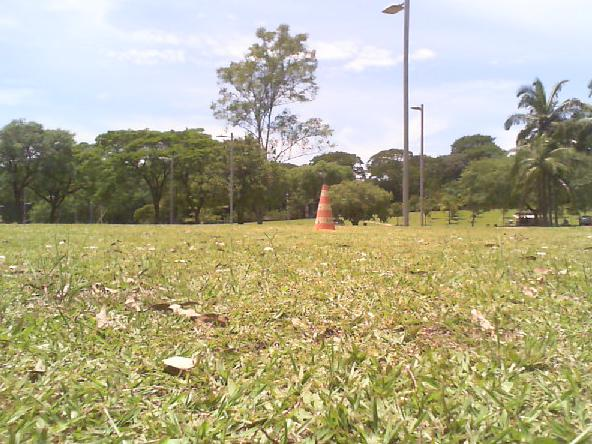0 cone: (313, 185, 335, 230)
